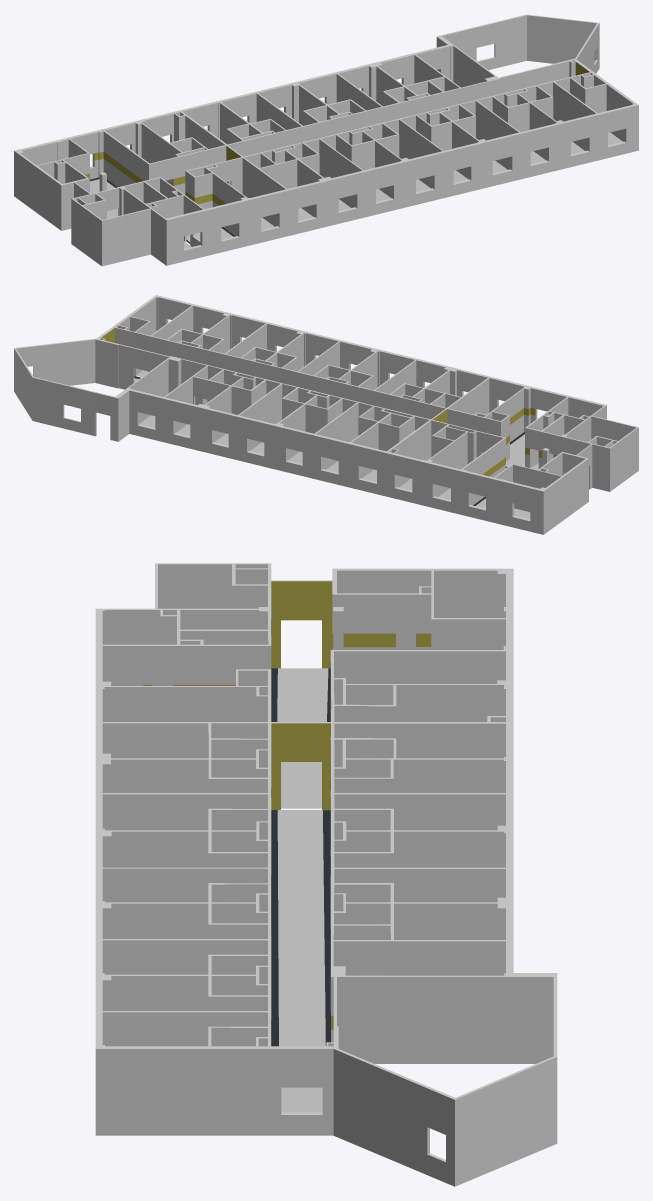
The model's file is Palata3Block.fbx.
3 views of the same model, one above another, from view 1: azimuth 30°, elevation 25°; view 2: azimuth 150°, elevation 25°; view 3: azimuth 270°, elevation 25° (orthographic). The views are drawn at different scales.
Visible parts, largest first — view 1: Plane; view 2: Plane; view 3: Plane.
Boxes of the visible parts, left/top/right/bottom form: Plane: left=14, top=14, right=638, bottom=266; Plane: left=14, top=295, right=638, bottom=534; Plane: left=95, top=563, right=557, bottom=1186.
Bounding box in the file's own units: 5557 × 419 × 2021.
